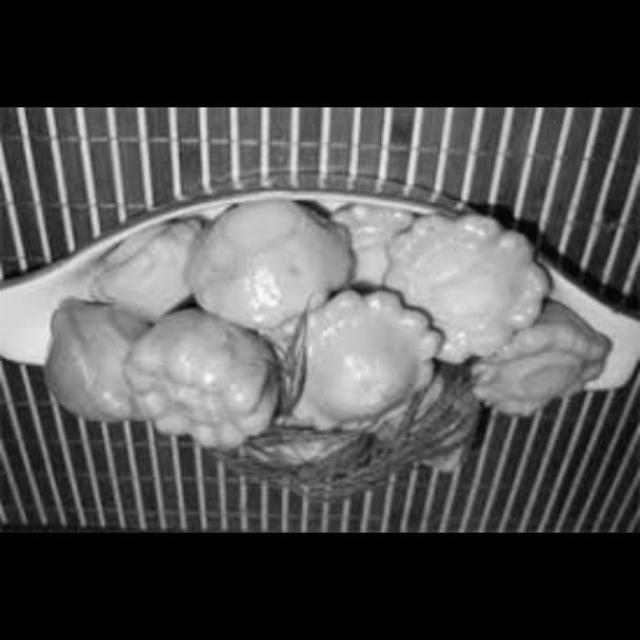squash: (104, 311, 279, 457), (390, 209, 543, 374), (194, 200, 355, 343), (271, 300, 445, 428), (460, 306, 603, 431), (38, 293, 149, 444), (90, 217, 209, 324)
